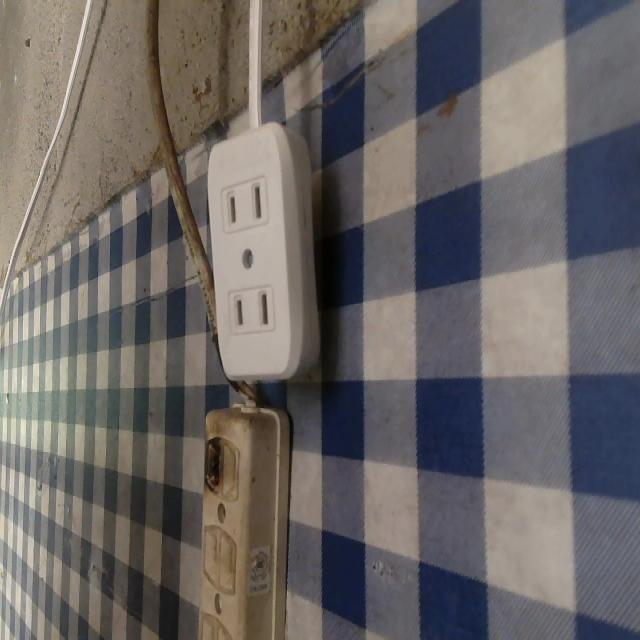-: (199, 432, 232, 497)
